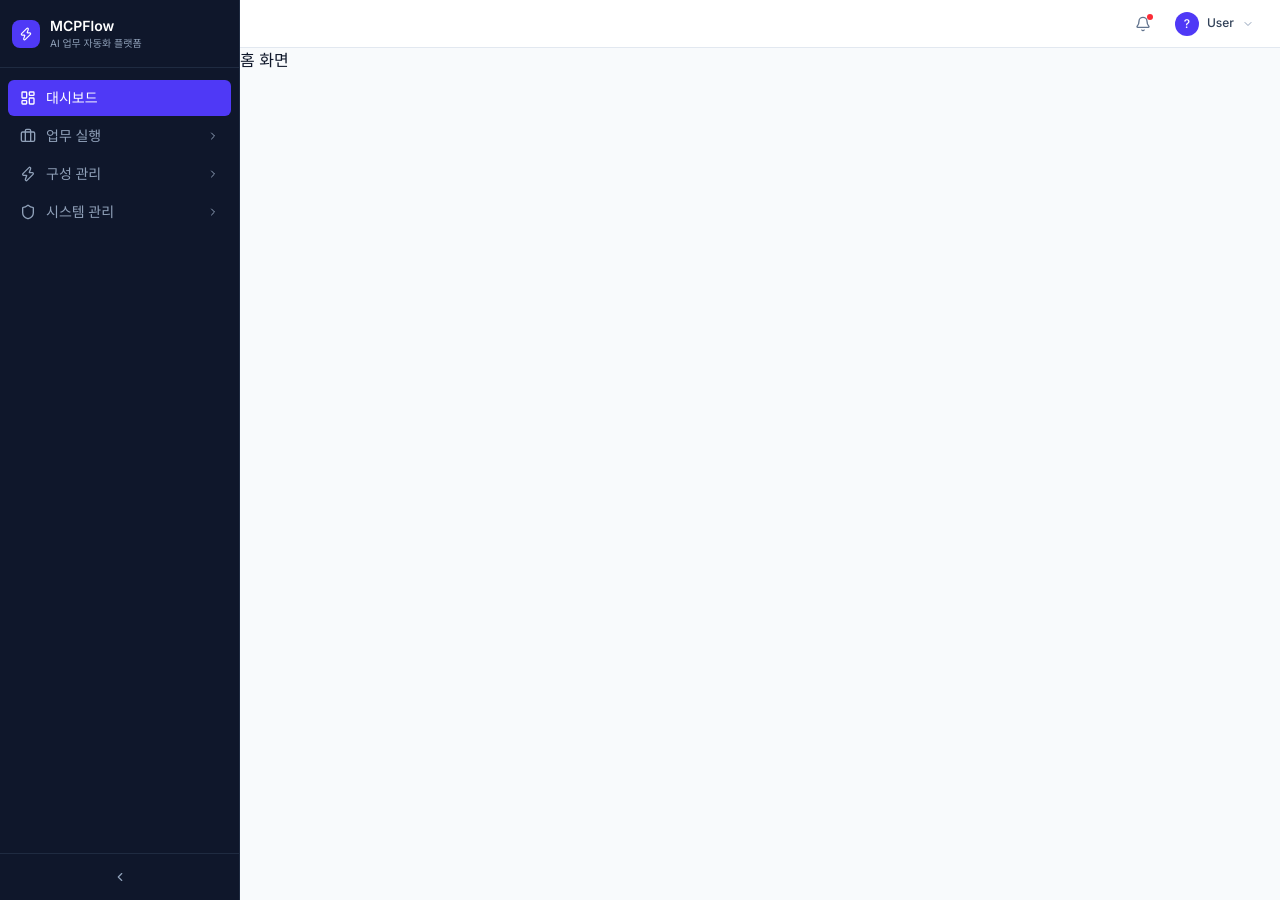
Scenario: AppShell session user › uses Korean navigation while keeping the existing schedule route and permissions
The image size is (1280, 900).
Expected: the link "대시보드" is shown, 8,80 -> 231,116
Click the button "업무 실행": (120, 136) 8,118 -> 231,154
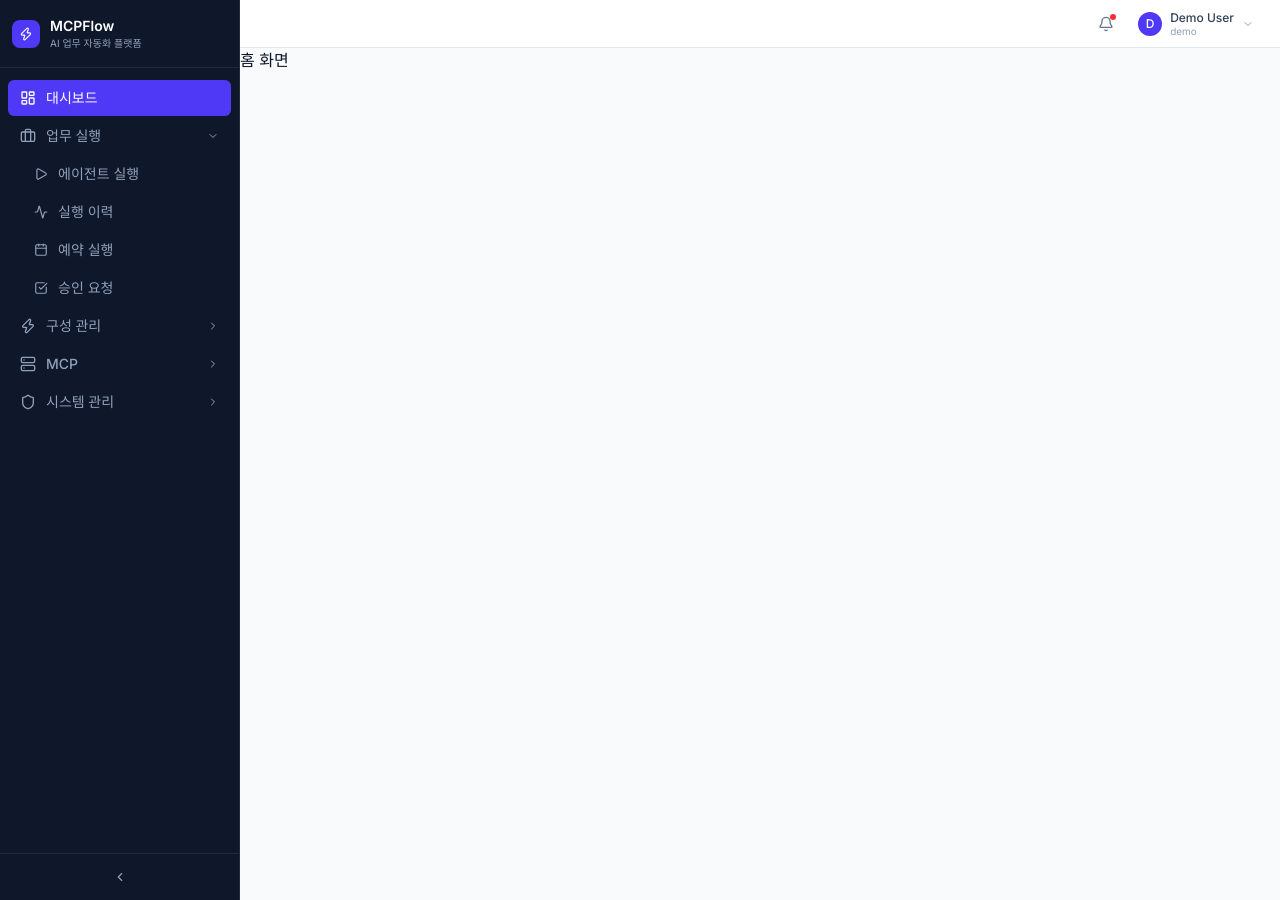
Click the link "예약 실행": (74, 250) 34,241 -> 114,258
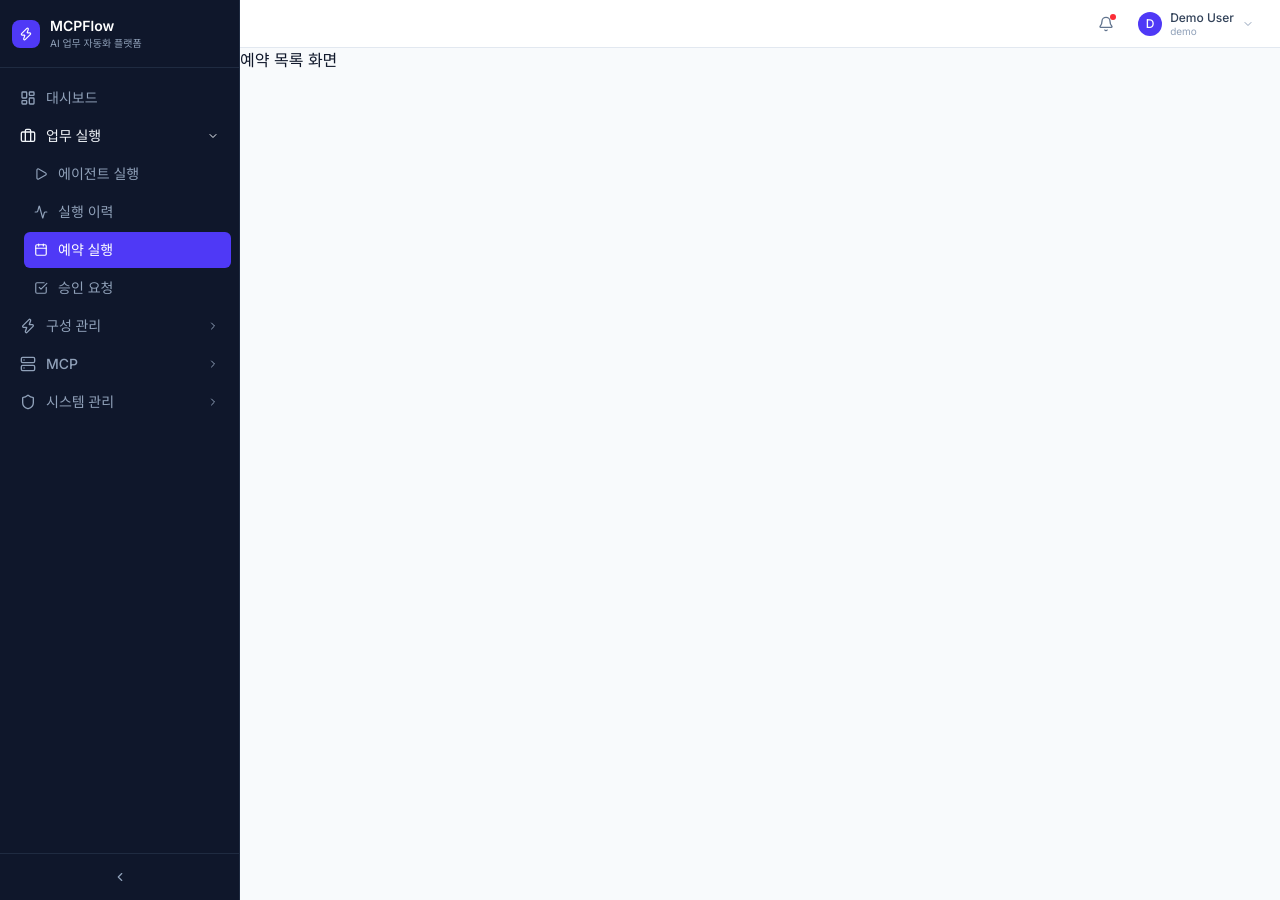
Now the text "예약 목록 화면" is shown, box 240,50 -> 337,70
Click the button named "메뉴 접기": (120, 877) 8,862 -> 231,892
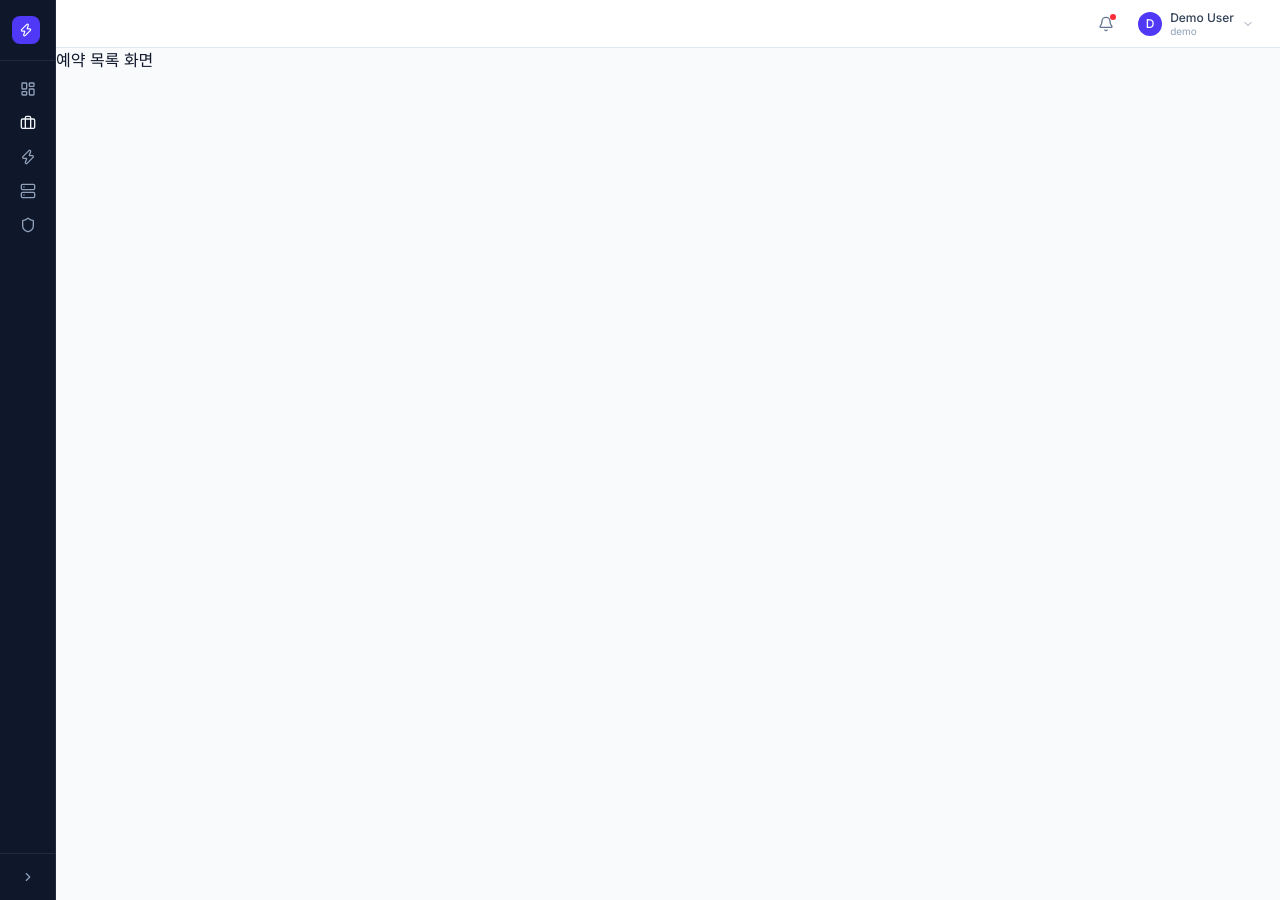
Expected: the button titled "업무 실행" is shown, 8,107 -> 47,139
Now the button named "메뉴 펼치기" is shown, box 8,862 -> 47,892
